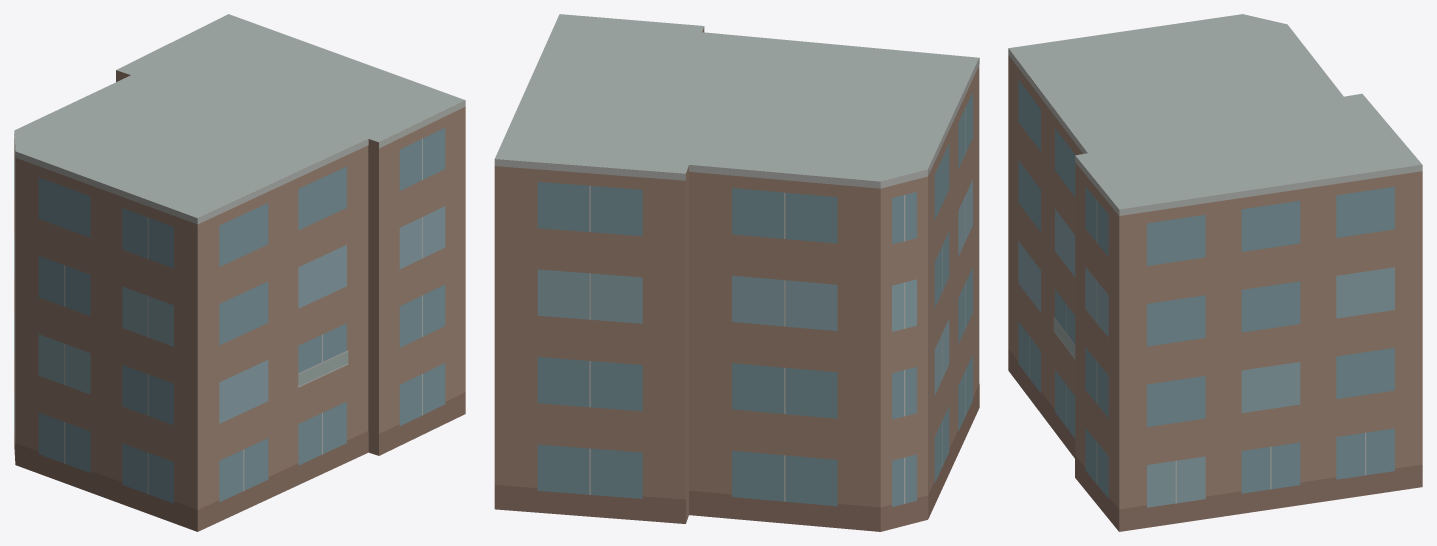
The model's file is survey-upis-32696900.glb.
The picture shows the model from 3 angles, left to right: view 1: azimuth 30°, elevation 25°; view 2: azimuth 150°, elevation 25°; view 3: azimuth 270°, elevation 25°; orthographic projection. The views are drawn at different scales.
Parts seen in each view (by area): view 1: survey-upis-32696900.tmp; view 2: survey-upis-32696900.tmp; view 3: survey-upis-32696900.tmp.
Boxes of the visible parts, x1,y1,x2,y2 form: survey-upis-32696900.tmp: (14,14,465,531); survey-upis-32696900.tmp: (494,14,979,531); survey-upis-32696900.tmp: (1008,14,1422,531).
Bounding box in the file's own units: 15.89 × 12.2 × 14.22.
